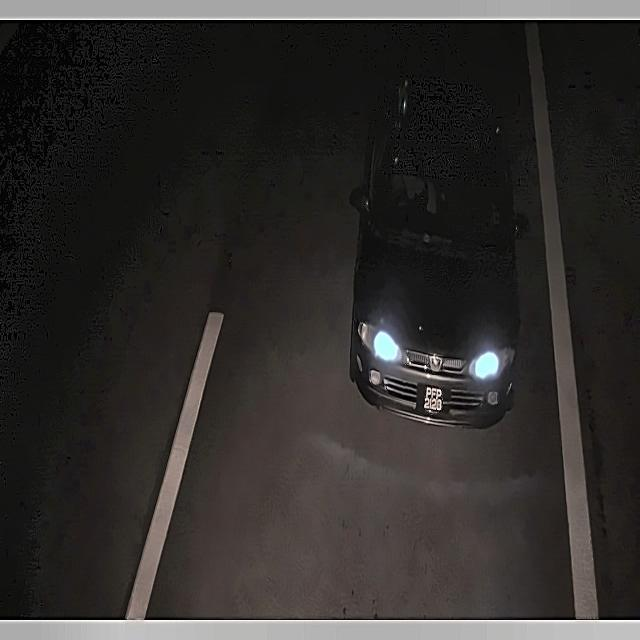car: (412, 378, 456, 420)
